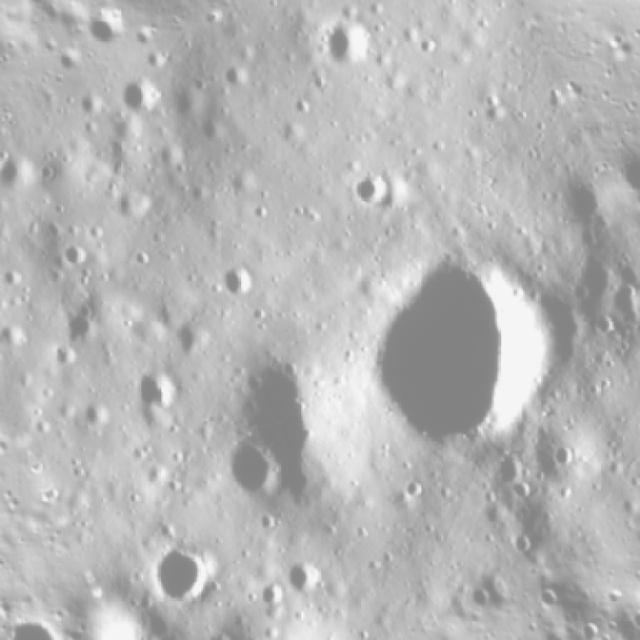crater: (316, 208, 601, 492), (214, 341, 363, 519), (137, 522, 232, 618), (210, 428, 296, 514), (555, 239, 627, 316), (114, 354, 186, 429), (309, 8, 383, 75), (548, 167, 614, 238), (104, 171, 167, 235), (272, 550, 336, 612), (0, 135, 52, 209), (335, 159, 399, 219), (208, 245, 266, 307), (108, 68, 167, 128), (164, 304, 221, 365), (56, 296, 112, 352), (480, 446, 532, 494), (75, 388, 123, 438), (192, 104, 238, 151), (134, 615, 218, 640), (251, 572, 294, 616), (215, 55, 259, 96), (502, 526, 540, 566), (546, 435, 582, 476), (587, 304, 624, 342), (394, 472, 432, 506), (55, 236, 90, 272), (506, 471, 540, 507), (200, 626, 246, 640)
